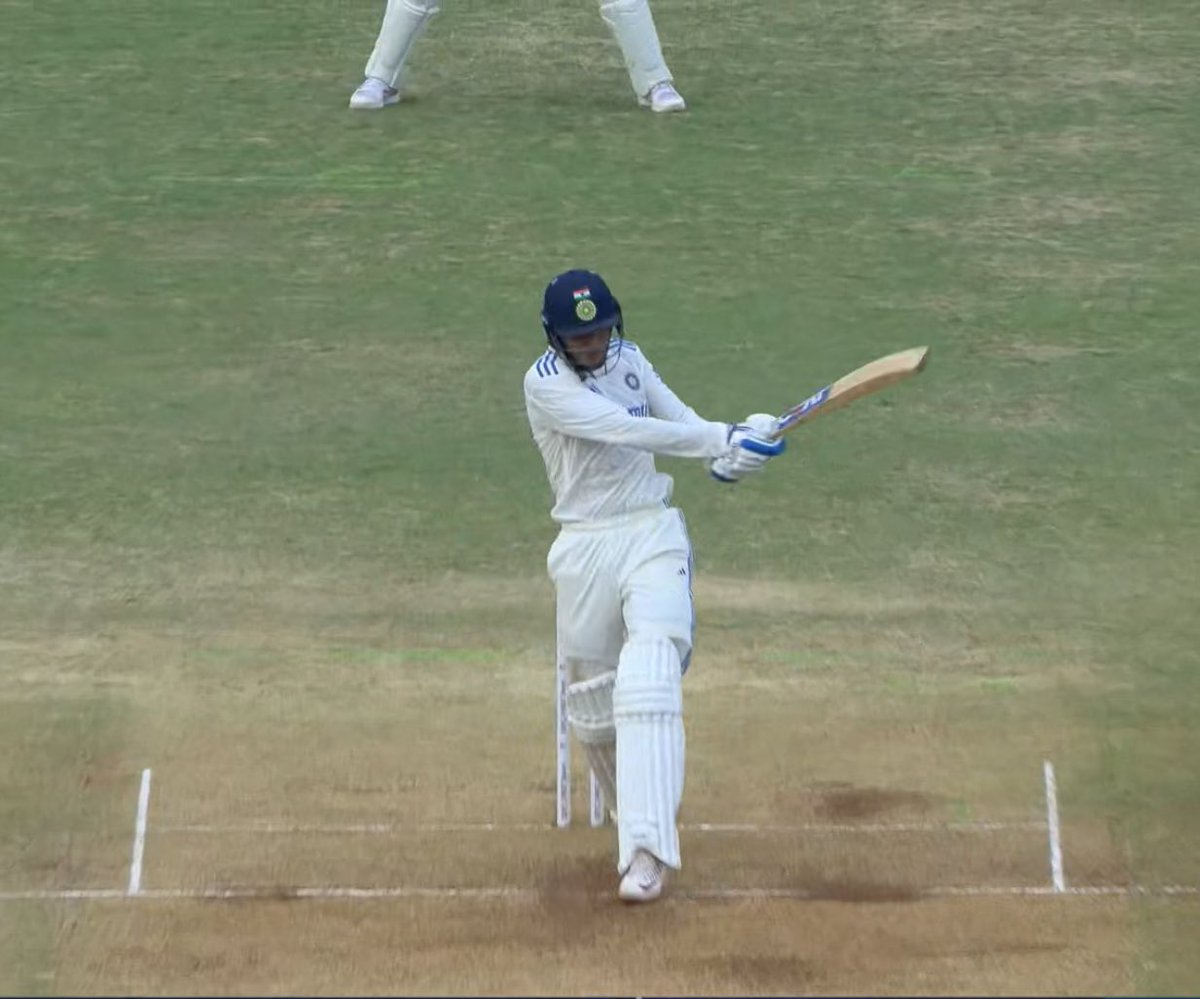Pullshot: (232, 4, 1043, 993)
